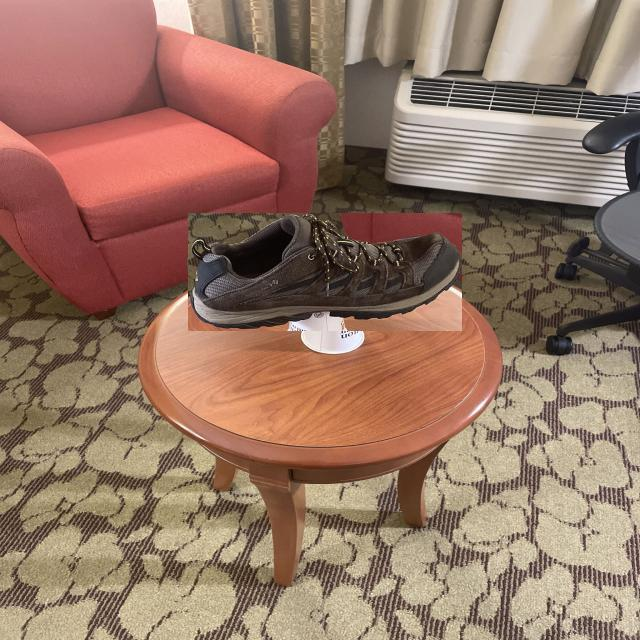shoe: (188, 213, 462, 331)
